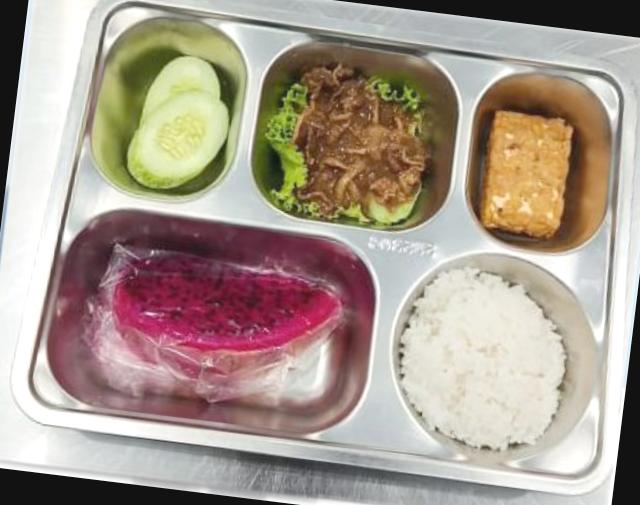ayam: (264, 62, 429, 226)
buah: (102, 248, 342, 403)
nasi: (398, 268, 566, 451)
sayur: (125, 56, 228, 189)
tempe: (480, 111, 572, 238)
